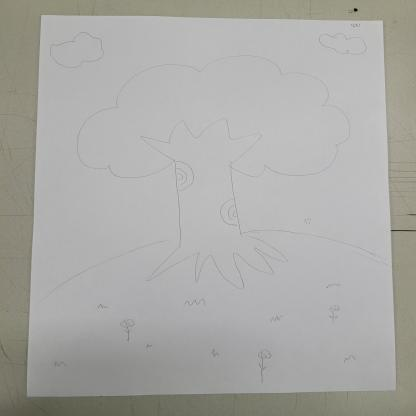branch_sharp: (136, 117, 268, 161)
crown_cloud: (73, 54, 353, 181)
knot: (171, 160, 197, 190), (219, 197, 242, 227)
root_upside: (146, 223, 292, 293)
trunk_straight: (168, 174, 244, 225)
